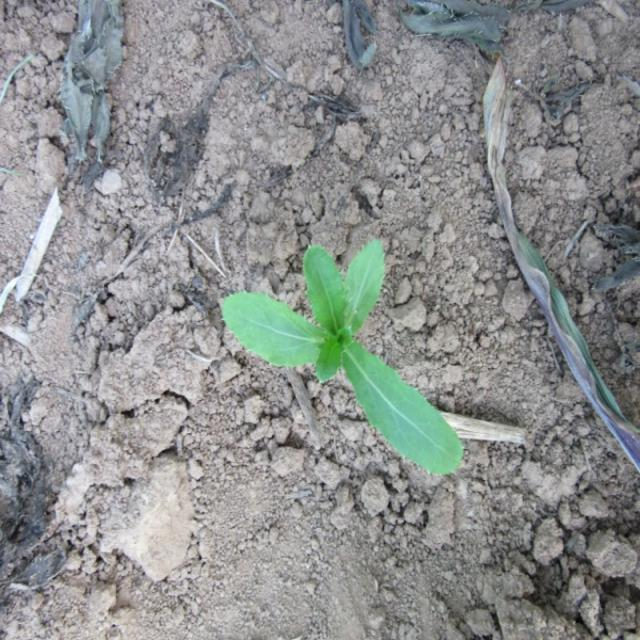cs: (219, 234, 465, 477)
